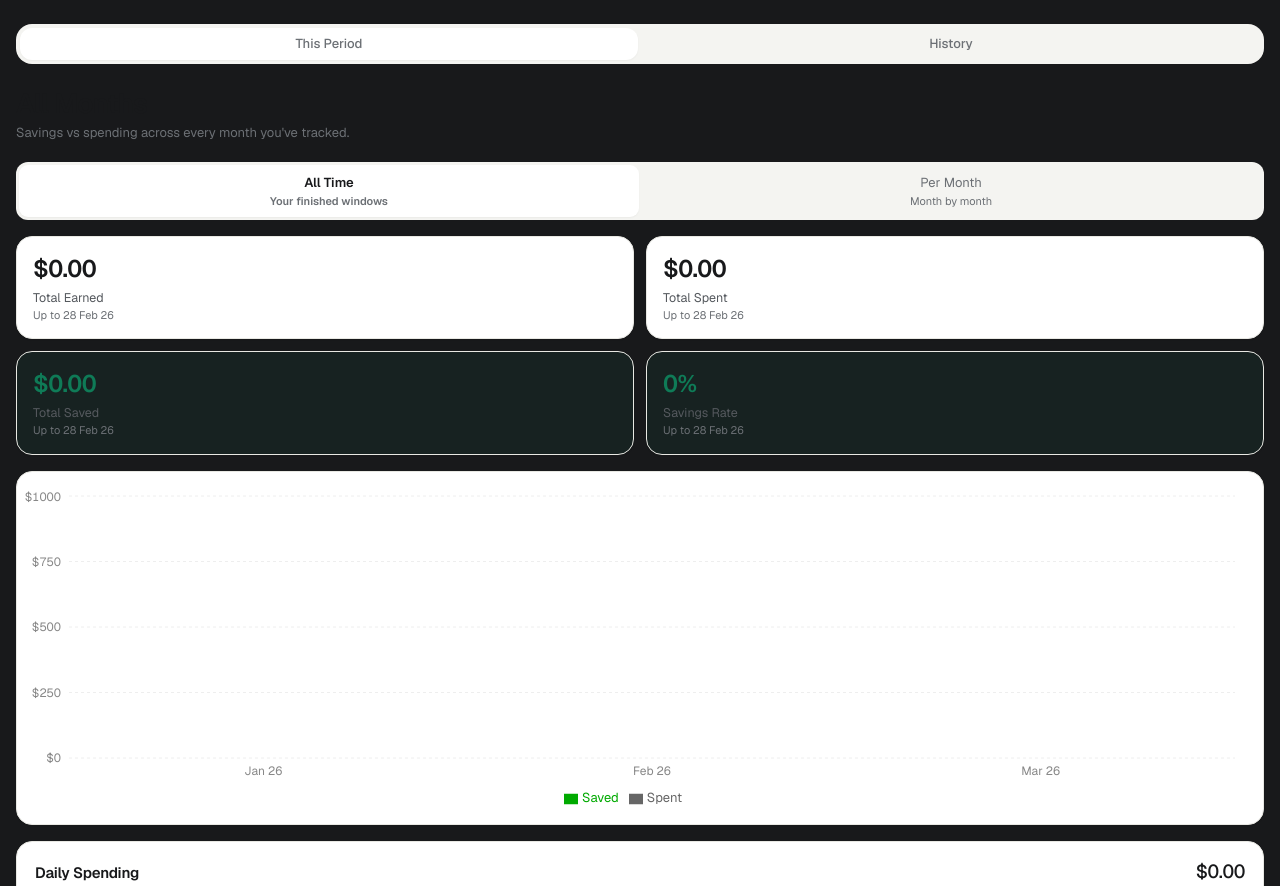
it: a month funded by an allowance › averages the months against their shares, not against income
Click the button "Per Month Month by month".
click(951, 191)  # box [641,165,1261,217]
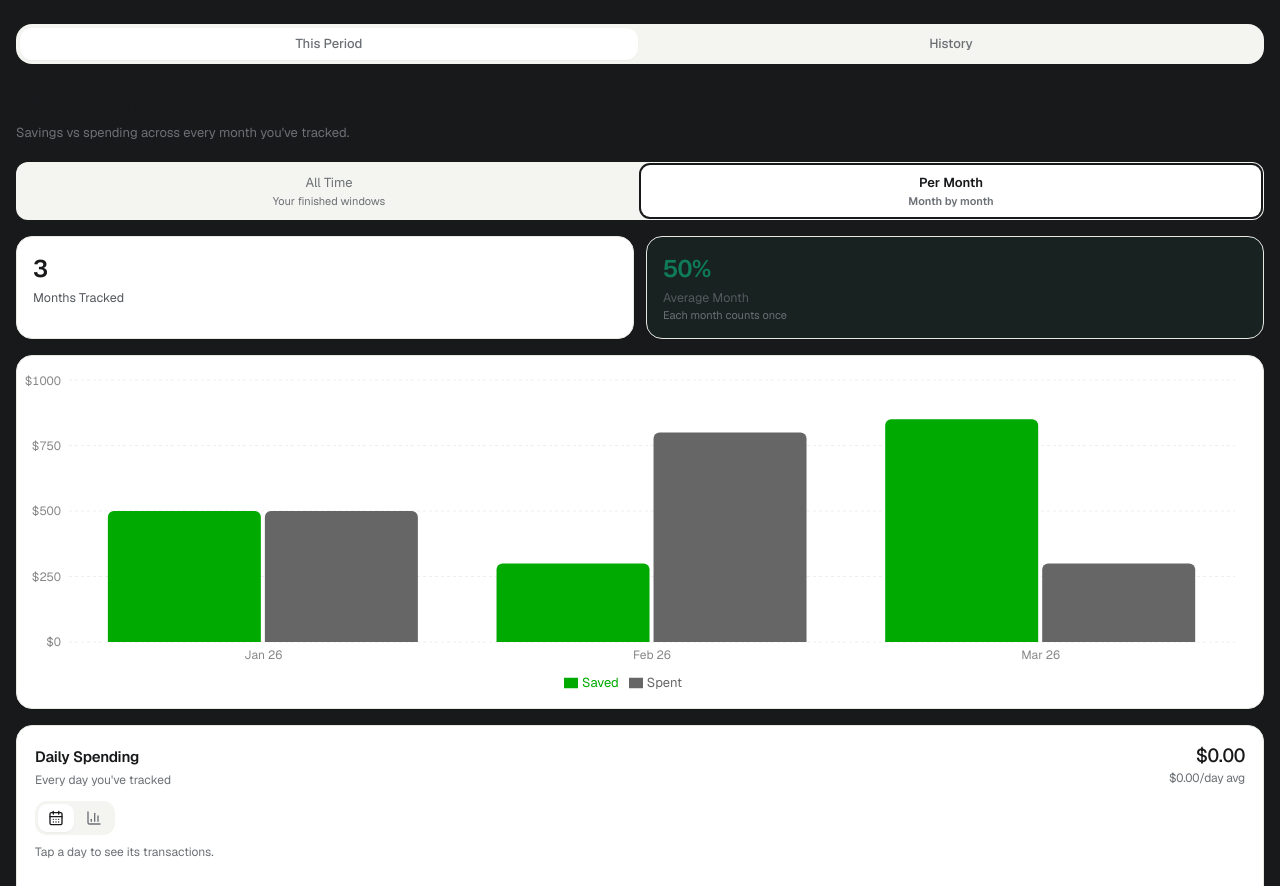
Expected: the element showing "50%" is shown, [663,253,711,284]
